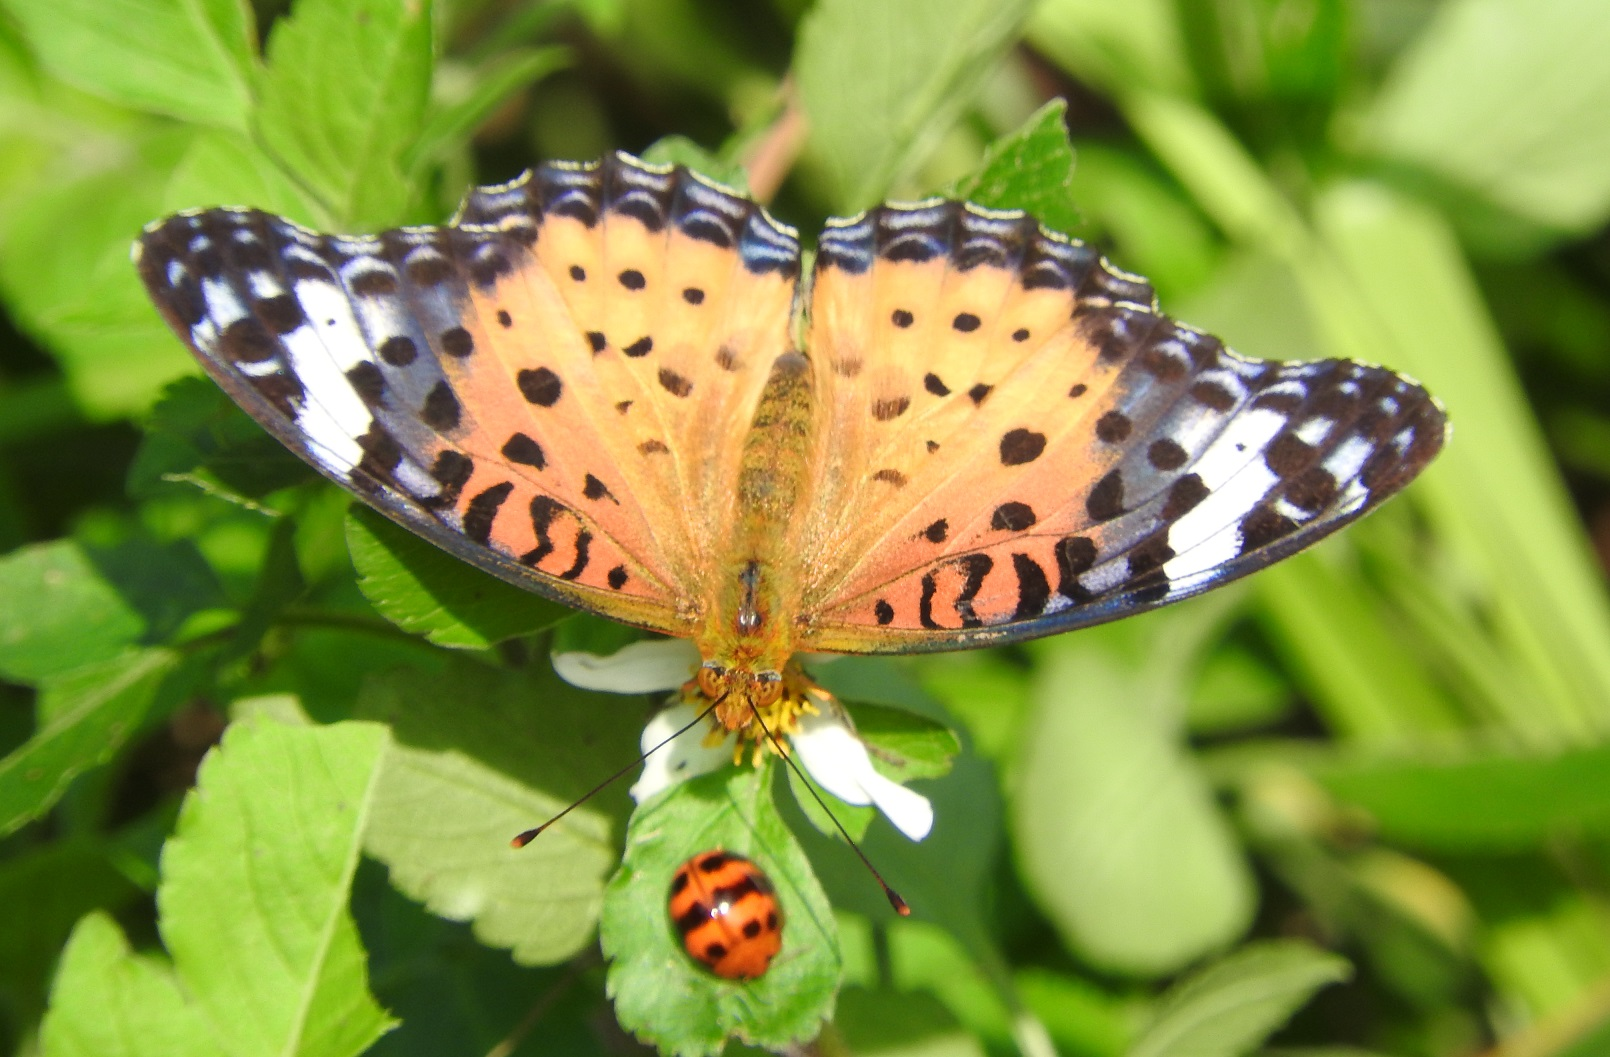Argyreus hyperbius: (127, 145, 1458, 926)
butterfly: (129, 147, 1460, 928)
